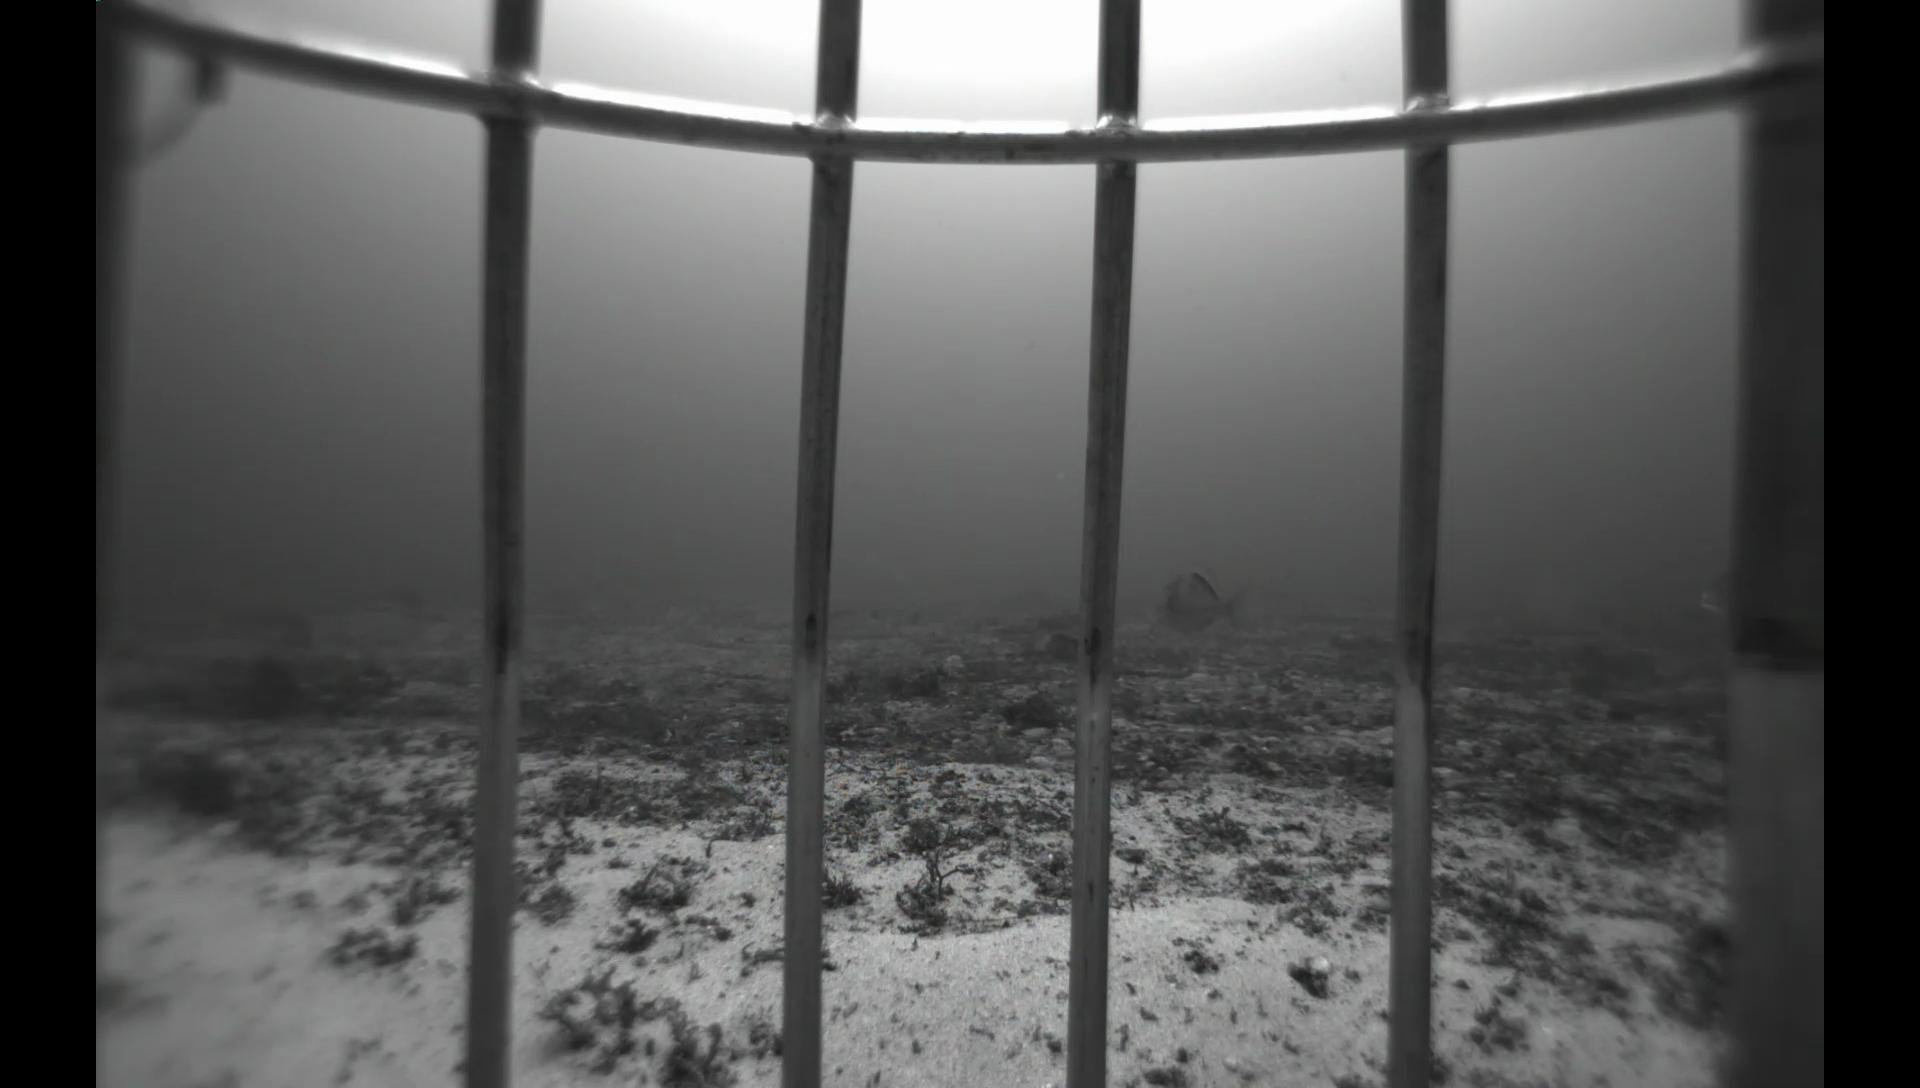BALISTESCAPRISCUS-189030502: (1139, 554, 1292, 666), (1691, 564, 1731, 625)
LUTJANUSGRISEUS-170151109: (825, 601, 907, 641)
PAGRUSPAGRUS-170212302: (214, 575, 324, 663)
